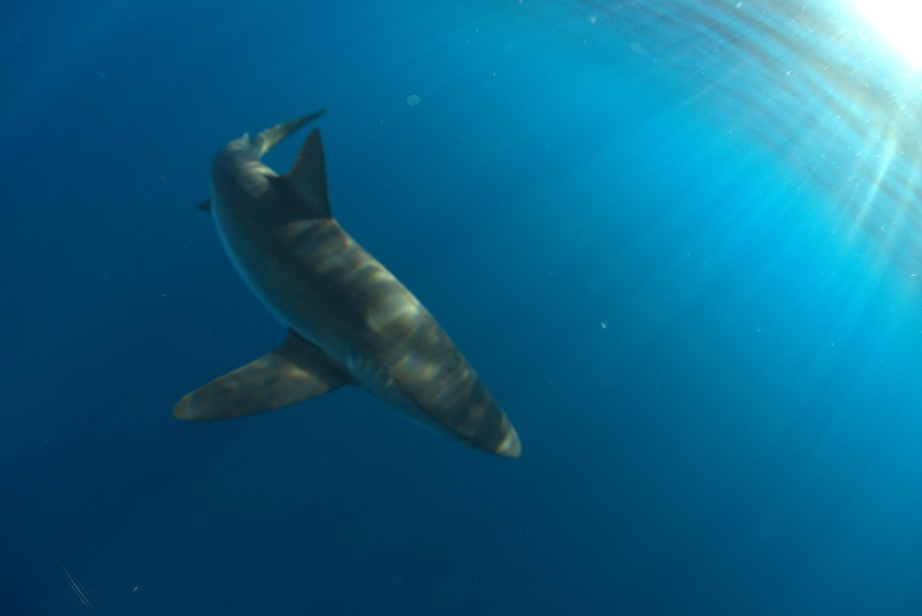Sedoso: (140, 99, 540, 469)
